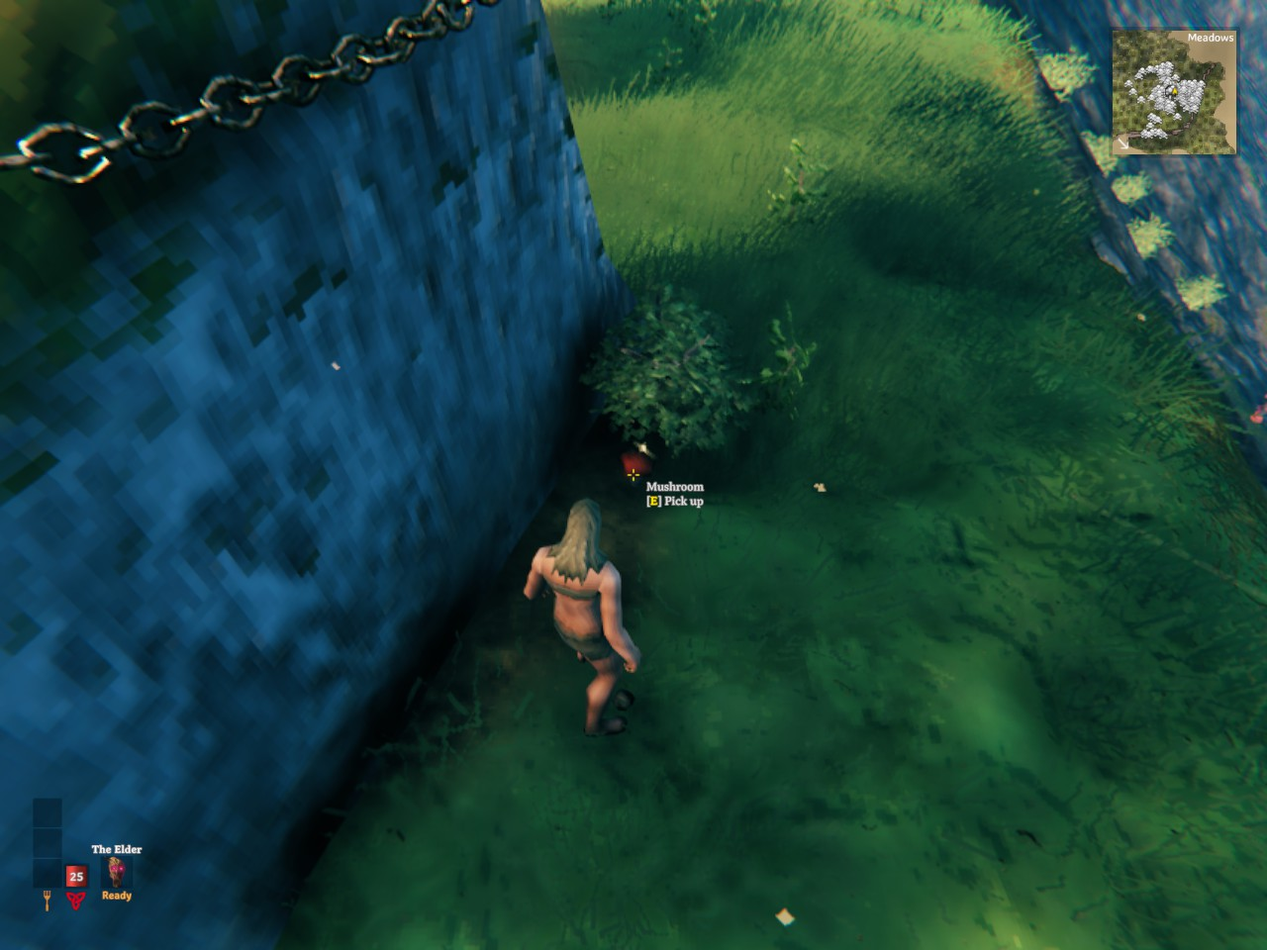Health Bar: (65, 865, 87, 887)
Mushroom: (622, 450, 651, 479)
